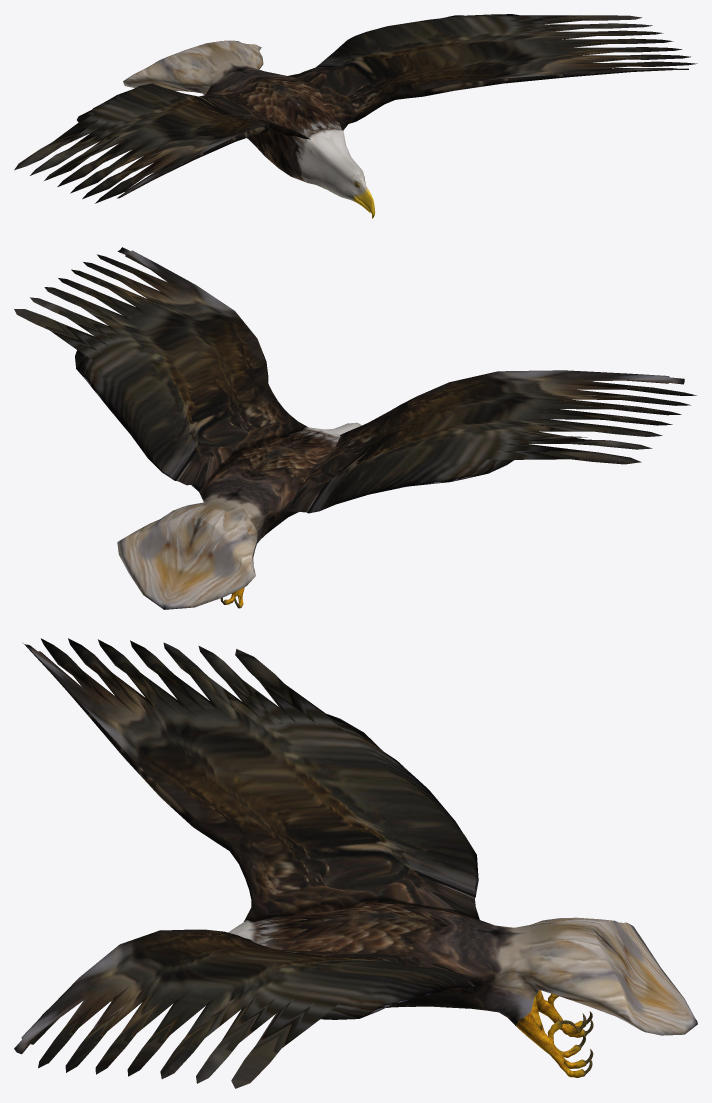
The model's file is eagle.obj.
3 views of the same model, one above another, from view 1: azimuth 30°, elevation 25°; view 2: azimuth 150°, elevation 25°; view 3: azimuth 270°, elevation 25° (orthographic). The views are drawn at different scales.
Parts seen in each view (by area): view 1: Flugel_Plane.003; view 2: Flugel_Plane.003; view 3: Flugel_Plane.003.
Part boxes in pixels (x1,y1,x2,y2): Flugel_Plane.003: (14, 14, 697, 218); Flugel_Plane.003: (14, 247, 696, 609); Flugel_Plane.003: (14, 638, 697, 1088).
Bounding box in the file's own units: 10.68 × 2.44 × 7.02.
1 material, 1 textured.
